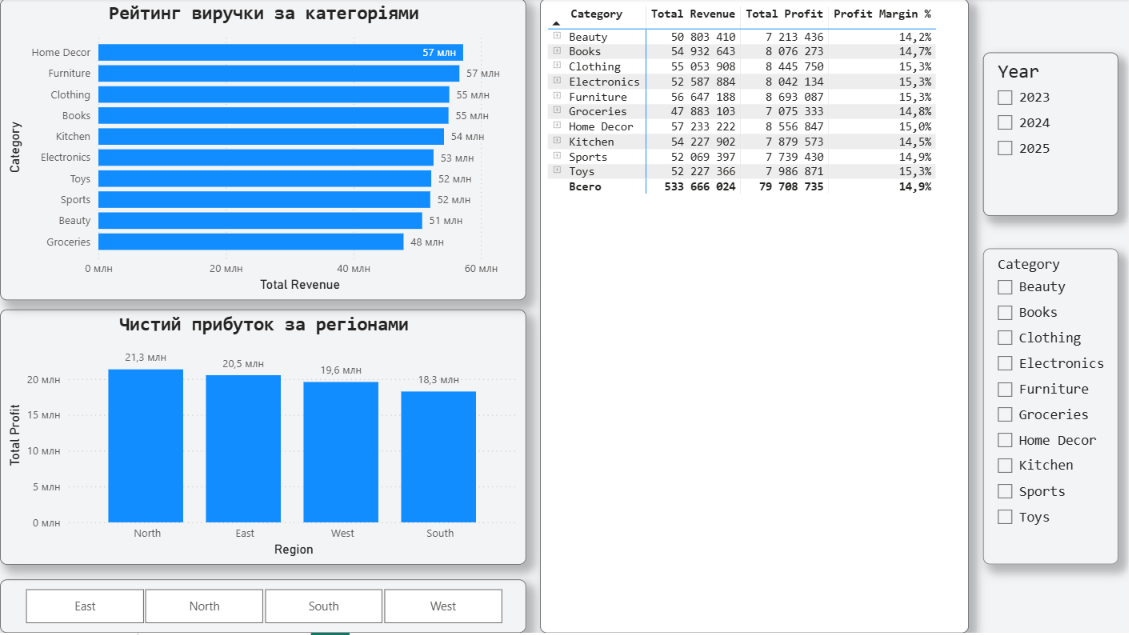

The page's visual inventory and layout, read from the dashboard file:
{"tool":"powerbi","page":{"name":"Product & Geo Analytics","canvas":[1280,720],"ordinal":1},"visuals":[{"type":"slicer","fields":{"Values":["Fact_Sales.Region"]},"box":[0,659.4,597.1,61],"z":0},{"type":"slicer","fields":{"Values":["Fact_Sales.Category"]},"box":[1115.2,284,153.8,358.8],"z":1000},{"type":"clusteredBarChart","title":"Рейтинг виручки за категоріями","fields":{"Category":["Fact_Sales.Category"],"Y":["_Measures.Total Revenue"]},"box":[0,0,597.1,342.2],"z":2000},{"type":"clusteredColumnChart","title":"Чистий прибуток за регіонами","fields":{"Category":["Fact_Sales.Region"],"Y":["_Measures.Total Profit"]},"box":[0,353.2,597.1,289.5],"z":3000},{"type":"pivotTable","fields":{"Rows":["Fact_Sales.Category","Fact_Sales.Sub-Category"],"Values":["_Measures.Total Revenue","_Measures.Total Profit","_Measures.Profit Margin %"]},"box":[612.3,0,486.2,720.3],"z":4000},{"type":"slicer","fields":{"Values":["Dim_Date.Year"]},"box":[1115.2,61,153.8,185.6],"z":5000}]}

Visuals, with their boxes in screenshot pixels (x1, y1, x2, y2), scaled from the page's 1280x720 canvas onto the 1129x635 screenshot:
slicer - Fact_Sales.Region: <region>0, 582, 527, 634</region>
slicer - Fact_Sales.Category: <region>984, 250, 1119, 567</region>
"Рейтинг виручки за категоріями" clusteredBarChart: <region>0, 0, 527, 302</region>
"Чистий прибуток за регіонами" clusteredColumnChart: <region>0, 312, 527, 567</region>
pivotTable - Fact_Sales.Category x Fact_Sales.Sub-Category: <region>540, 0, 969, 634</region>
slicer - Dim_Date.Year: <region>984, 54, 1119, 217</region>
